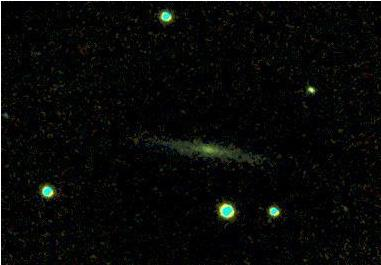star: (331, 193, 361, 223)
